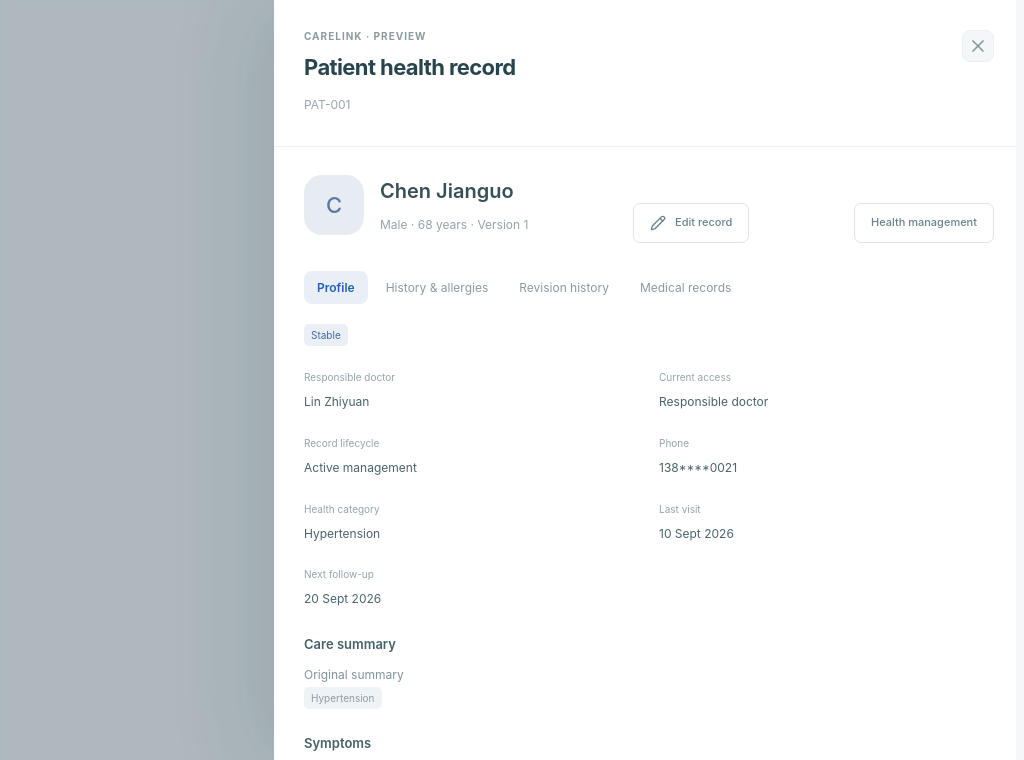
Scenario: Patients workflows › edits localized values in English while preserving original fixture values on save
The width and height of the screenshot is (1024, 760).
Click the button "Edit record" at (691, 223), box 633,203 -> 749,243
(page scrolled)
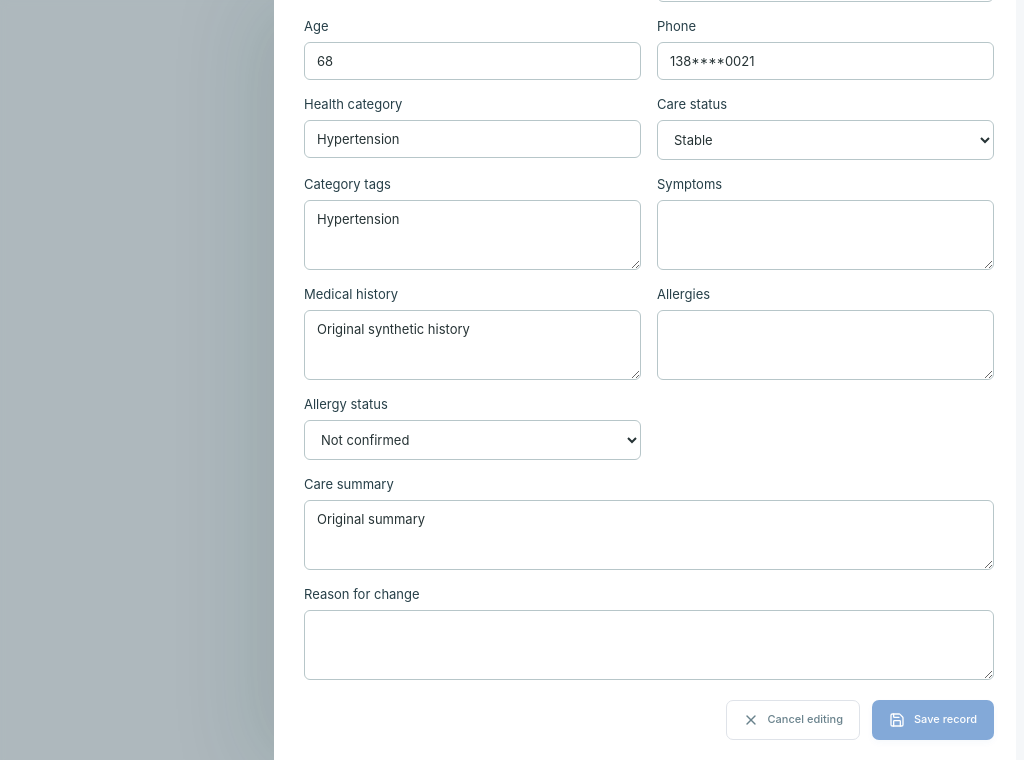
Check: the field labelled "Health category" holds "Hypertension", box 304,120 -> 641,158
Check: the text box labelled "Category tags" holds "Hypertension", box 304,200 -> 641,270
Replace the text in the text box labelled "Care summary" with "Revised summary" at (649, 535), box 304,500 -> 994,570
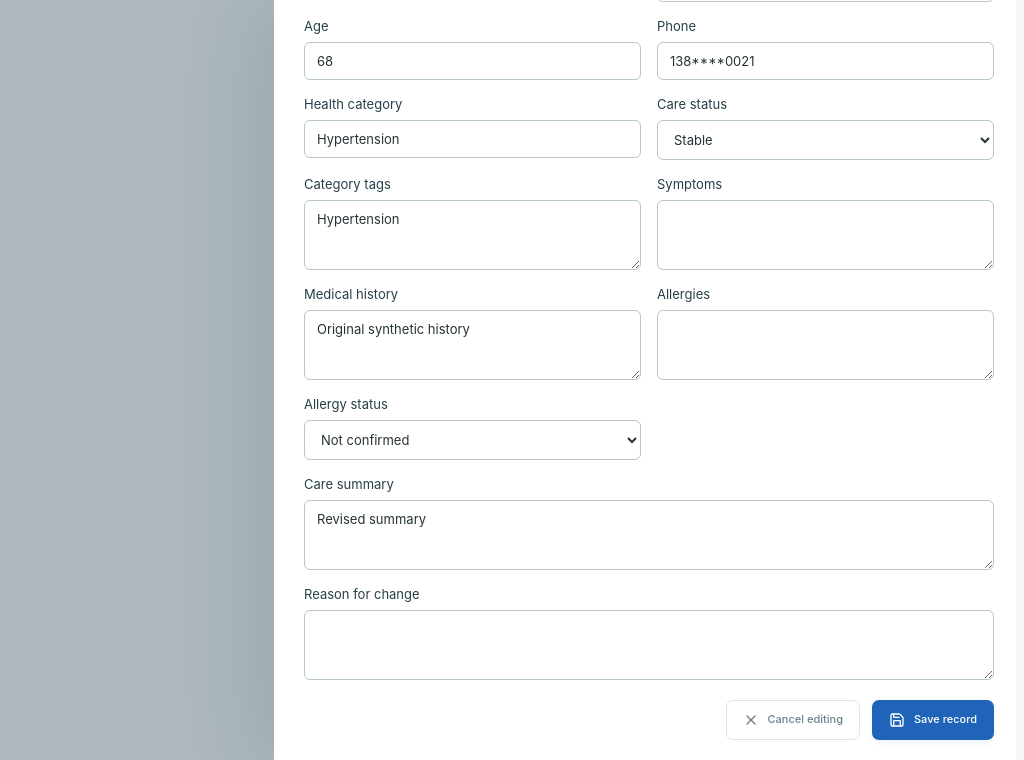
Type "Synthetic correction" into the text box labelled "Reason for change" at (649, 645), box 304,610 -> 994,680
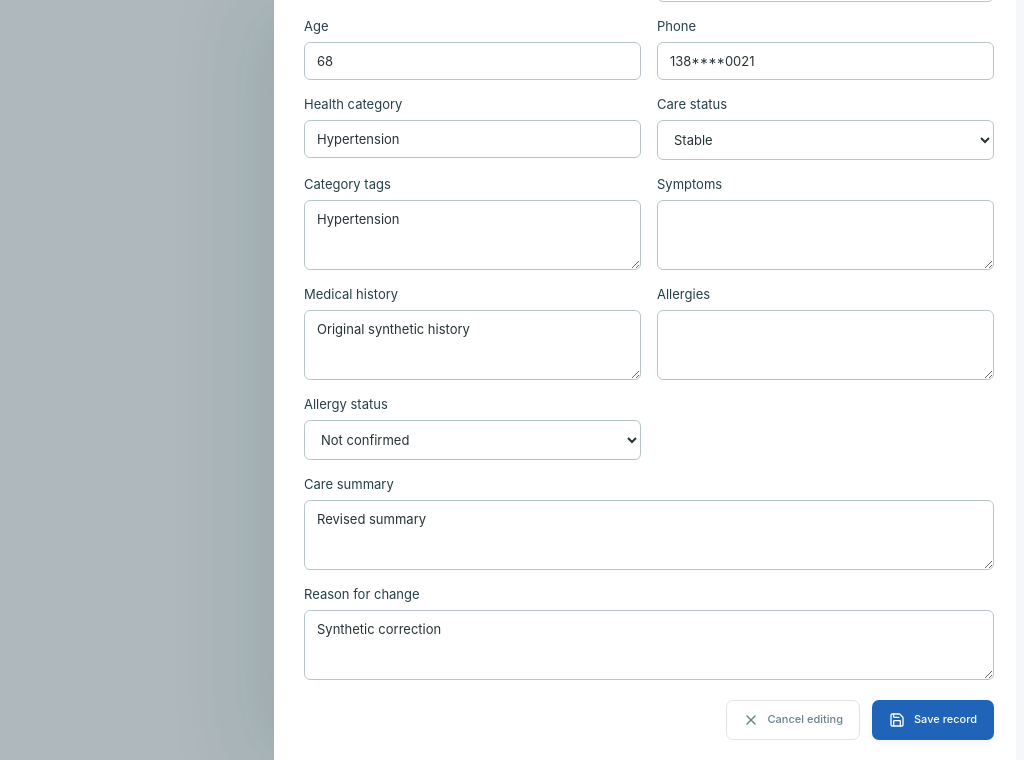
Click the button "Save record" at (933, 720), box 872,700 -> 994,740
(page scrolled)
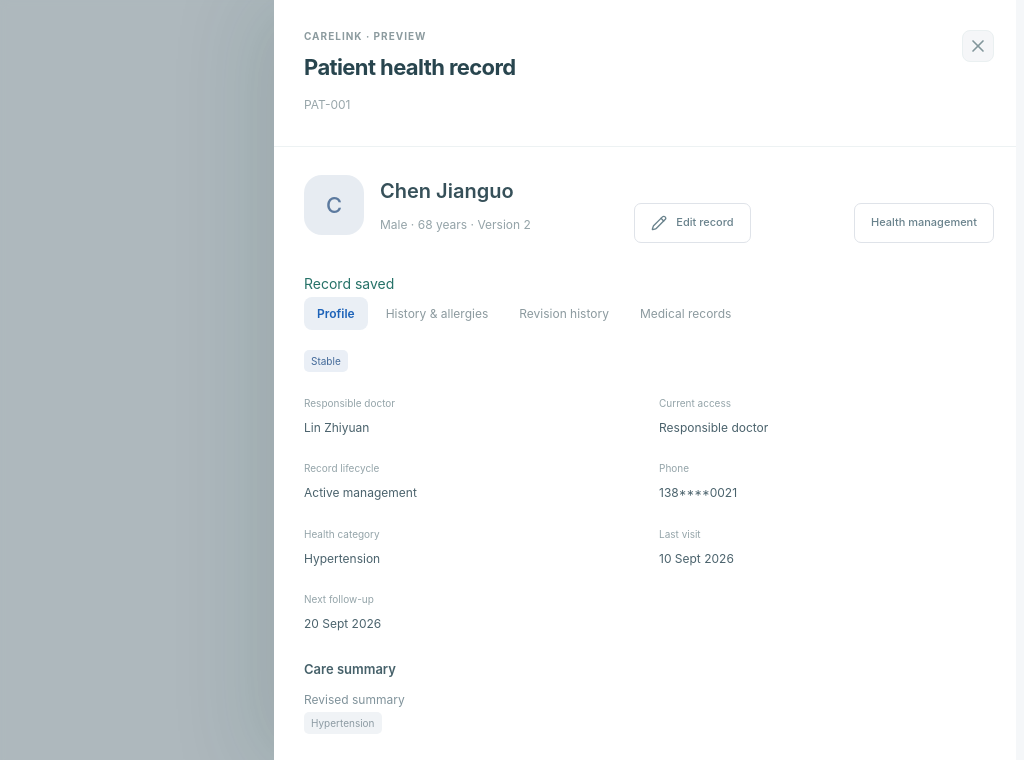
Check: the text "Record saved" is shown, box 304,275 -> 394,292
